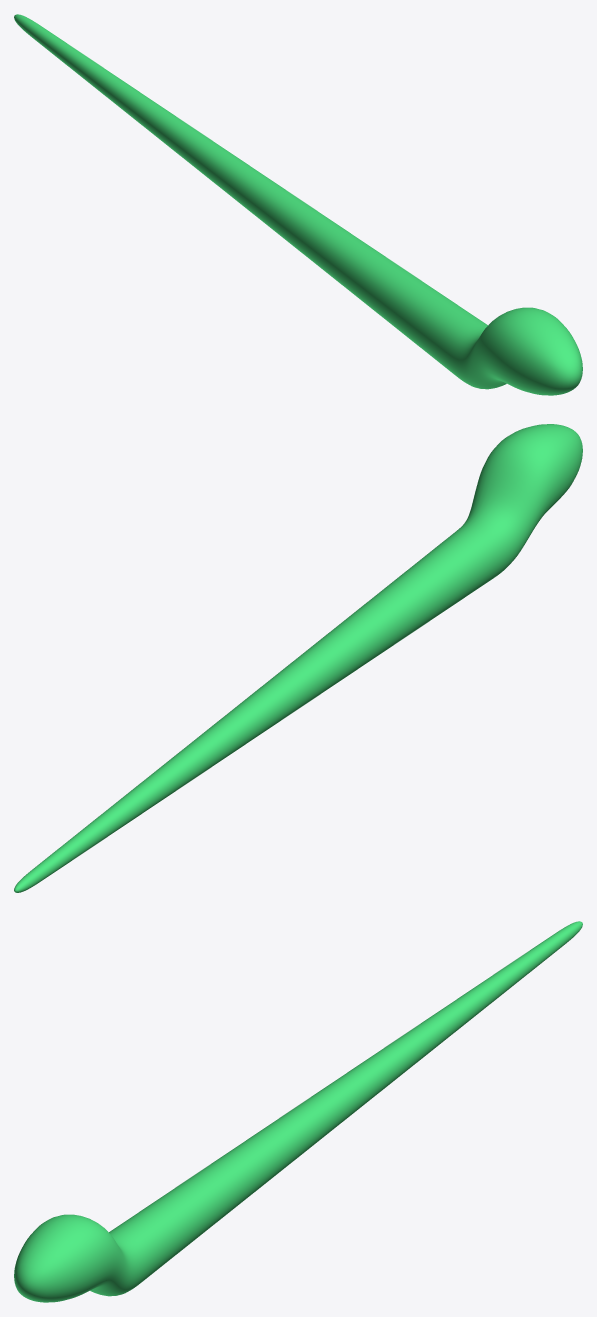
File: Snake1.fbx
3 renders of one model, top to bottom at view 1: azimuth 30°, elevation 25°; view 2: azimuth 150°, elevation 25°; view 3: azimuth 330°, elevation 25°, orthographic.
Visible parts, largest first — view 1: Snake; view 2: Snake; view 3: Snake.
Part boxes in pixels (x1,y1,x2,y2): Snake: (14,14,582,395); Snake: (14,424,582,892); Snake: (14,921,582,1302).
Size of the model in its own units: 218 by 317 by 3011.
